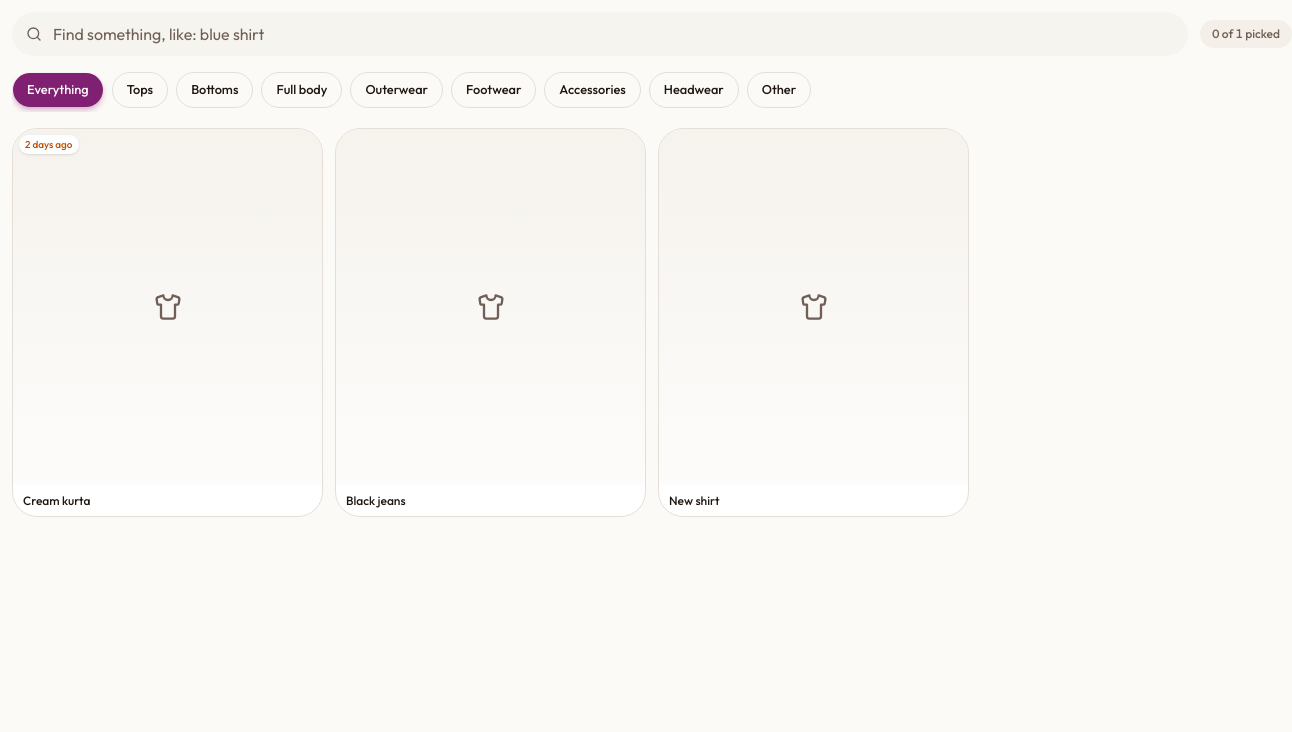
ItemPicker › stops at the limit and says why, rather than silently ignoring a tap
Click the button with aria-label "Cream kurta." at (168, 322), box x1=12 y1=128 x2=323 y2=517
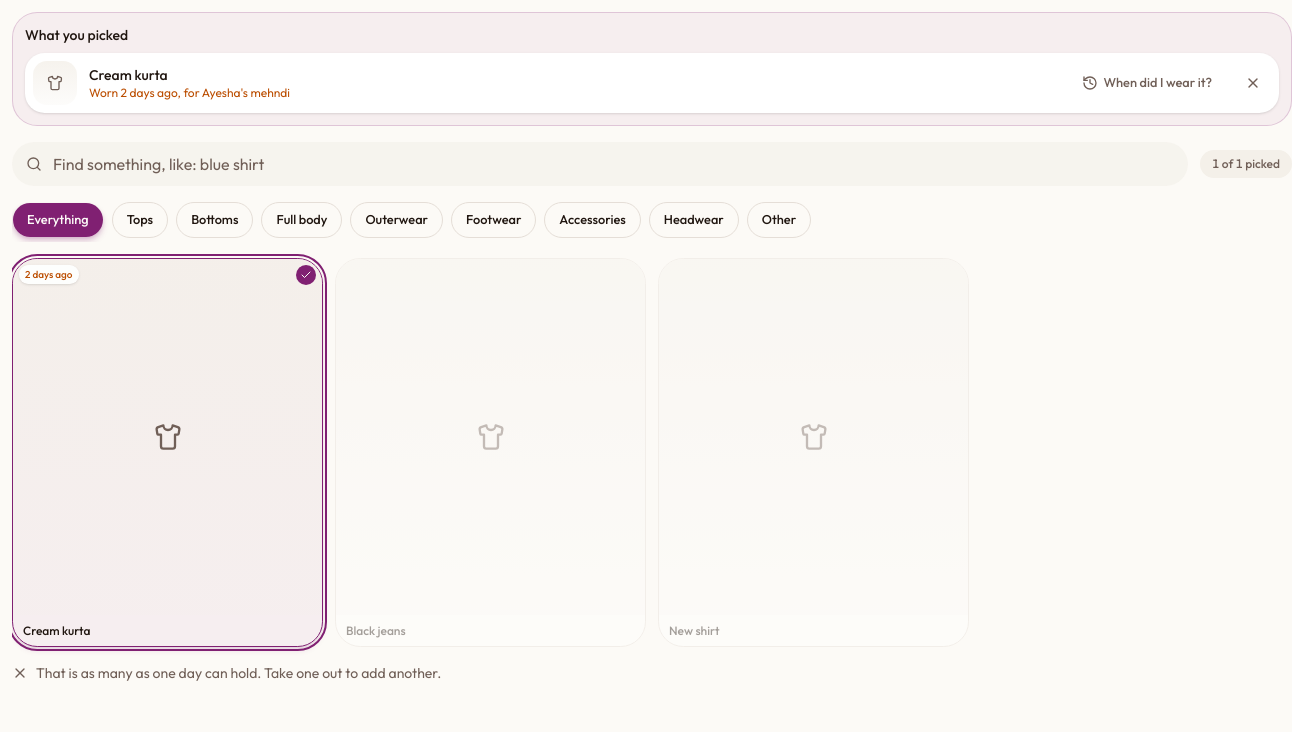
Now the text "as many as one day can hold" is shown, box x1=36 y1=664 x2=441 y2=682
Now the button with aria-label "Black jeans." is disabled, box x1=335 y1=258 x2=646 y2=647
